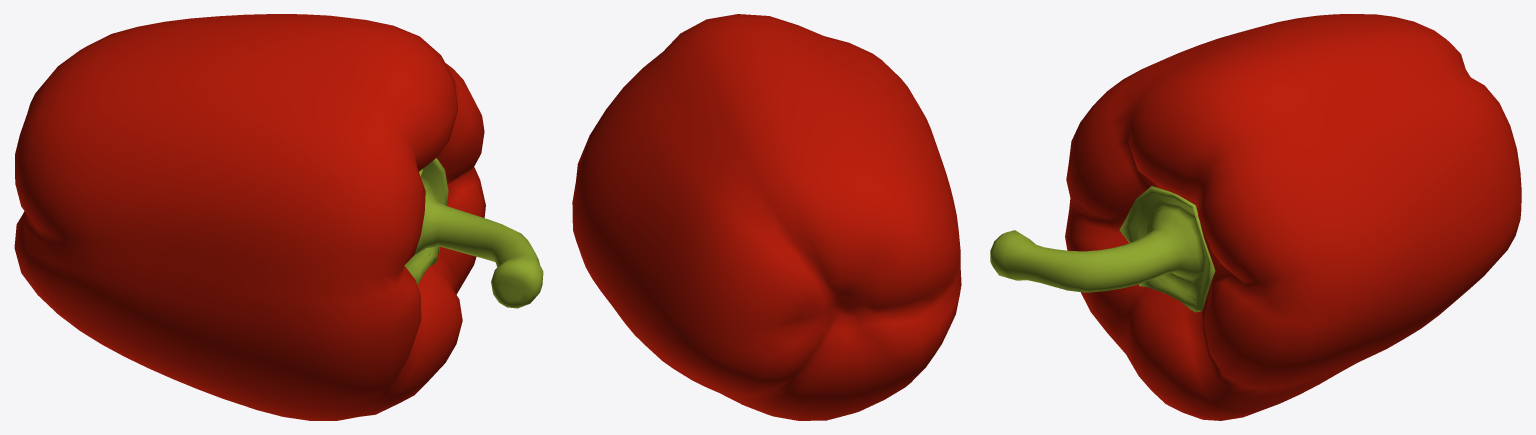
Rendered from BellPepper1.fbx.
3 renders of one model, left to right at view 1: azimuth 30°, elevation 25°; view 2: azimuth 150°, elevation 25°; view 3: azimuth 270°, elevation 25°, orthographic. The views are drawn at different scales.
Visible parts, largest first — view 1: BellPepper1; view 2: BellPepper1; view 3: BellPepper1.
Boxes of the visible parts, bbox=[...] form: BellPepper1: bbox=[14, 14, 543, 420]; BellPepper1: bbox=[572, 14, 961, 420]; BellPepper1: bbox=[990, 14, 1521, 420].
Bounding box in the file's own units: 0.0469 × 0.04 × 0.0545.
